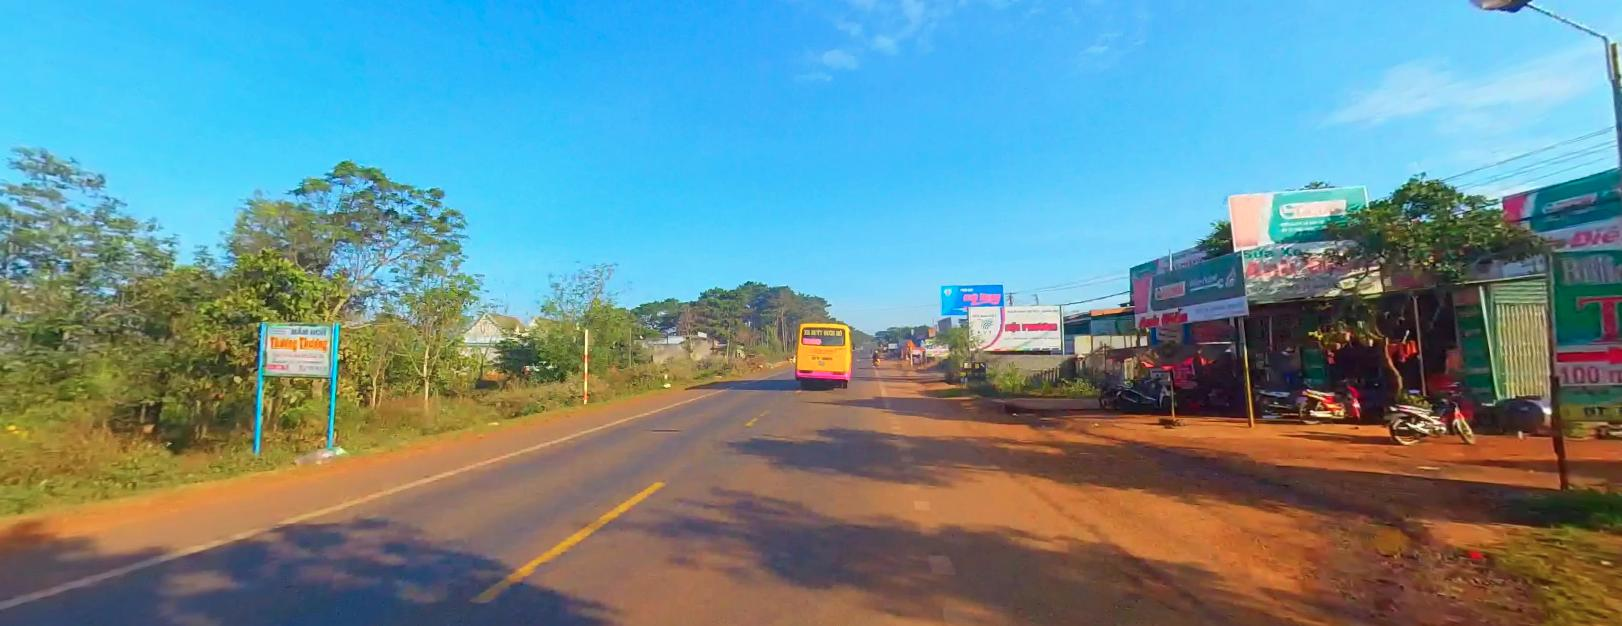Nguy hiem: (906, 337, 915, 345)
